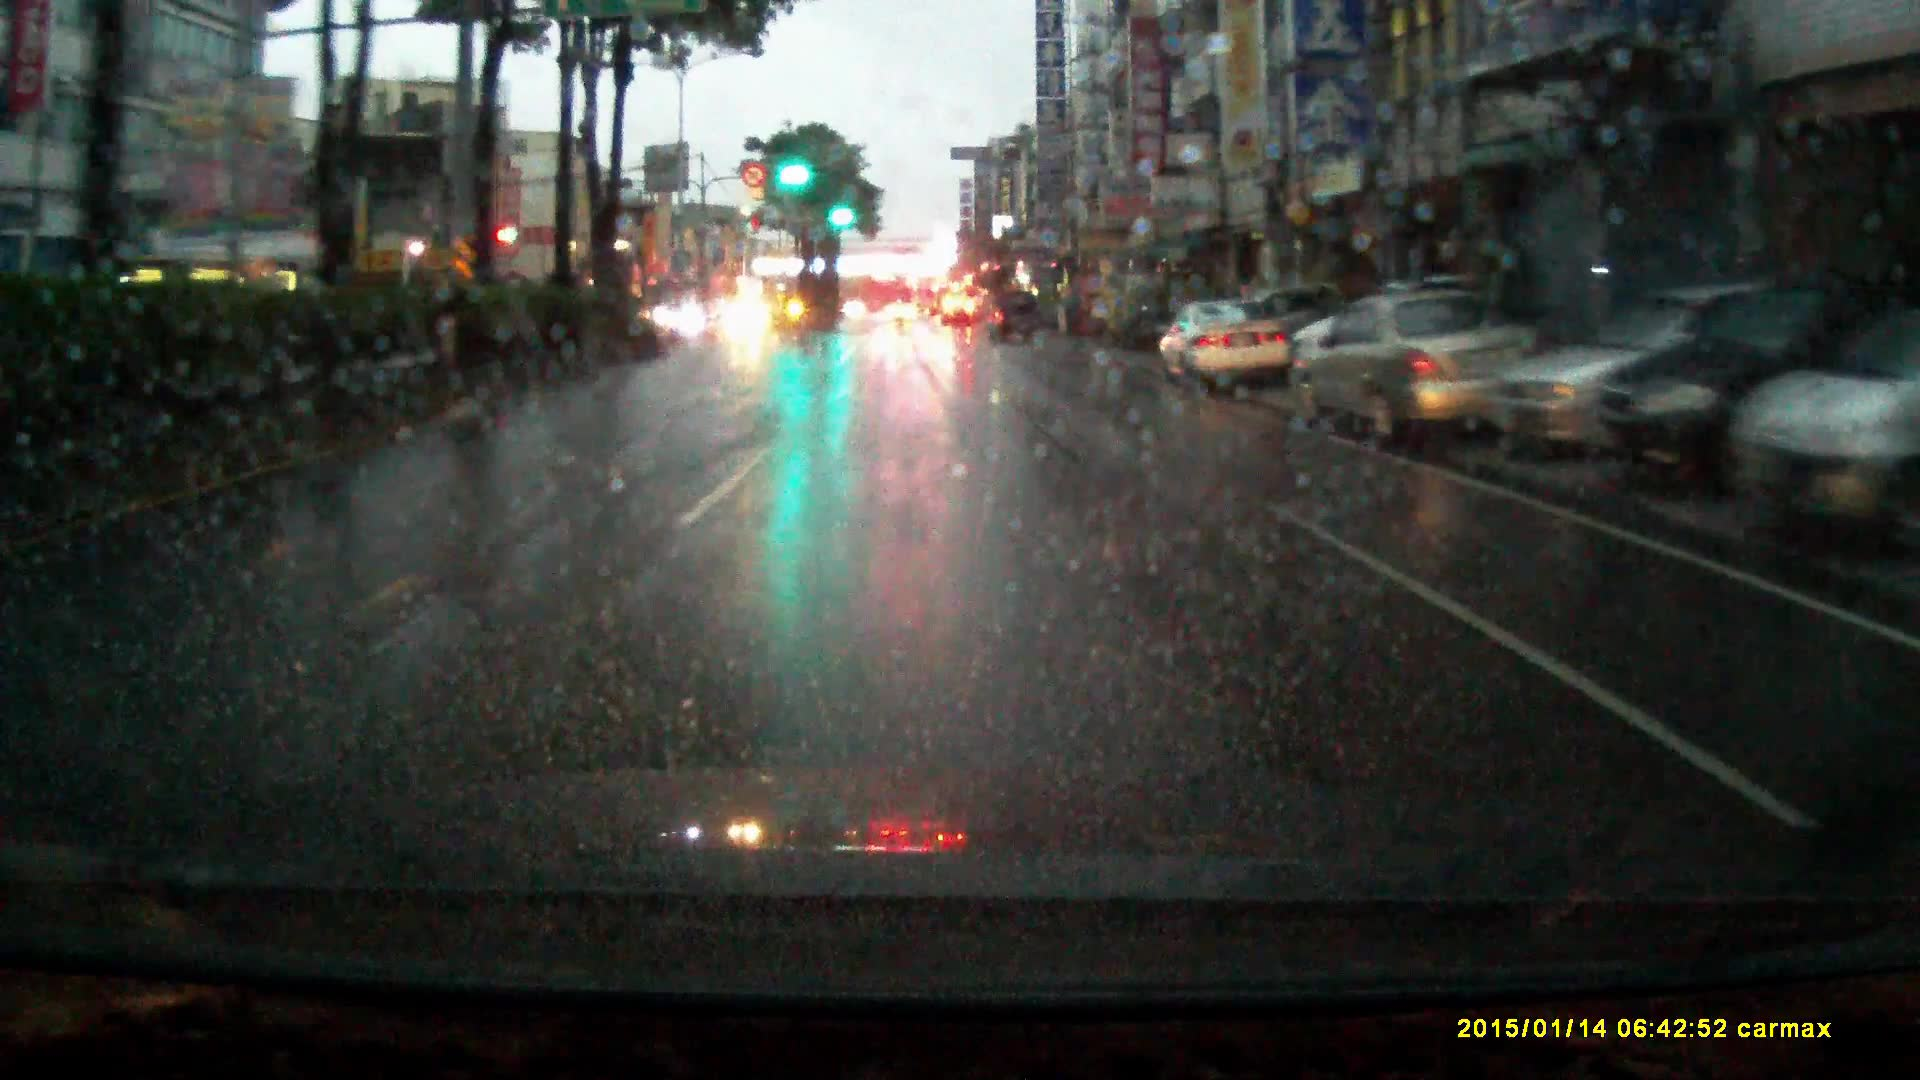vehicle: (1600, 291, 1874, 497), (1291, 295, 1557, 448), (1491, 301, 1739, 464), (1745, 336, 1920, 542), (1156, 294, 1295, 396), (719, 301, 775, 351), (989, 297, 1039, 345), (914, 280, 942, 322), (943, 298, 976, 328), (886, 305, 918, 324)
